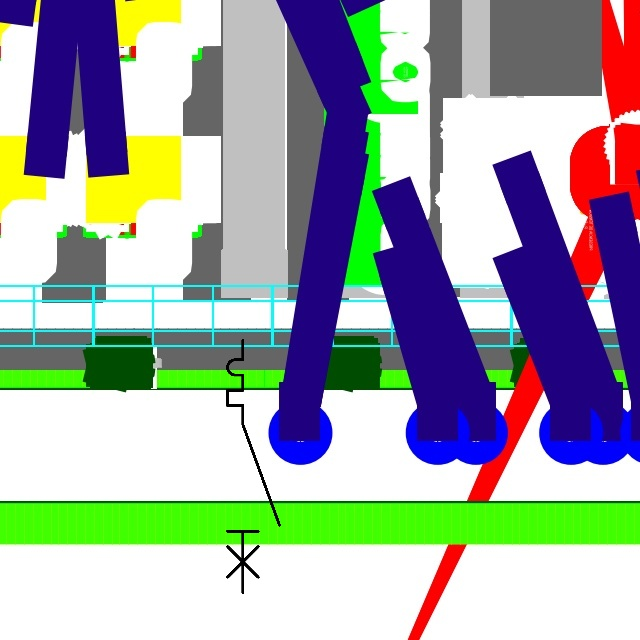interruptor_termomagnetico: (221, 334, 286, 599)
